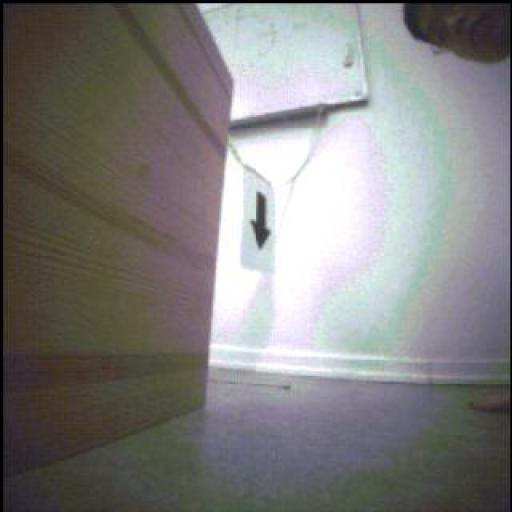Arrow: (253, 193, 272, 251)
